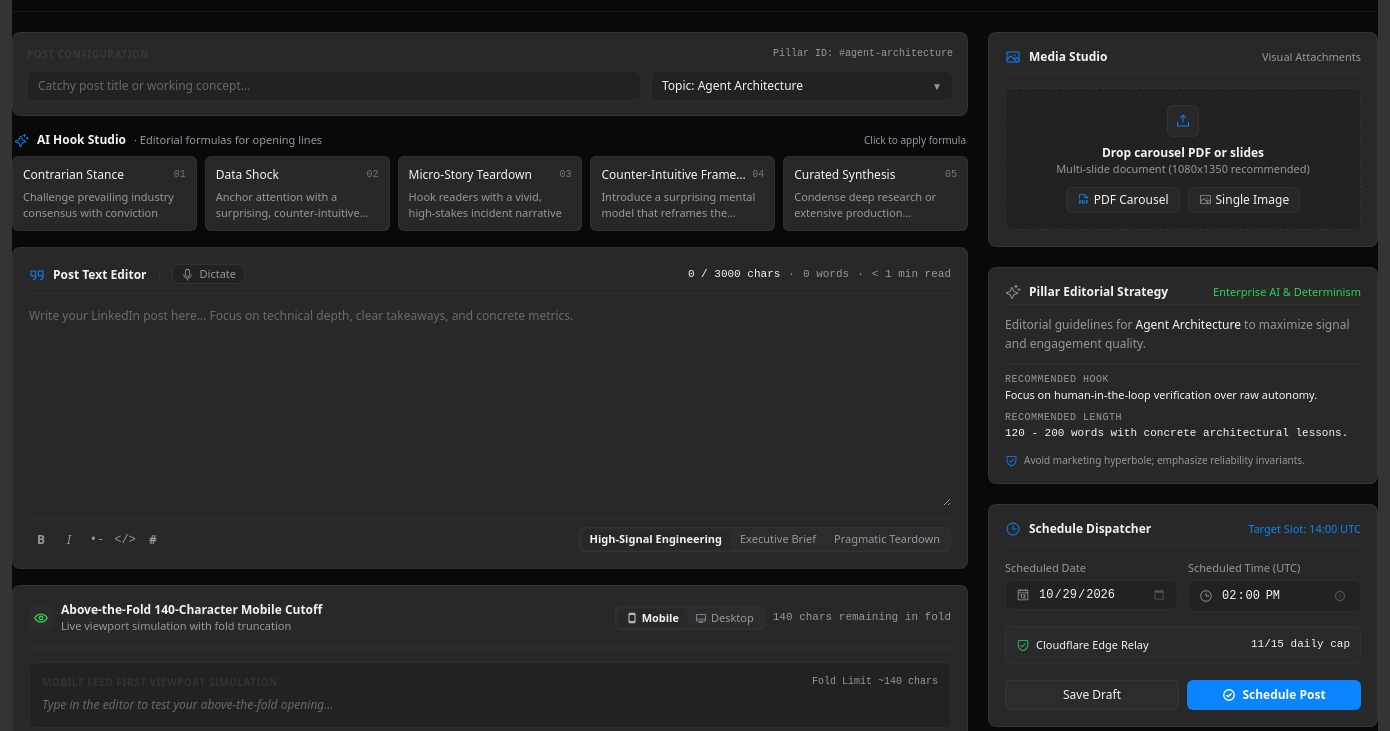
Test: ComposerView › displays above-the-fold 140-character cutoff indicator and fold status
This screenshot has width=1390, height=731.
Expected: the text with test id "fold-status-badge" reads "140 chars remaining in fold", [773, 611, 951, 623]
Replace the text in the text box with test id "post-content-editor" with "Most engineering teams are building agent workflows completely wrong: they rely on autonomous ReAct loops instead of deterministic state machines. This sentence easily crosses the 140 character mobile": [490, 406] box [29, 306, 951, 506]
(page scrolled)
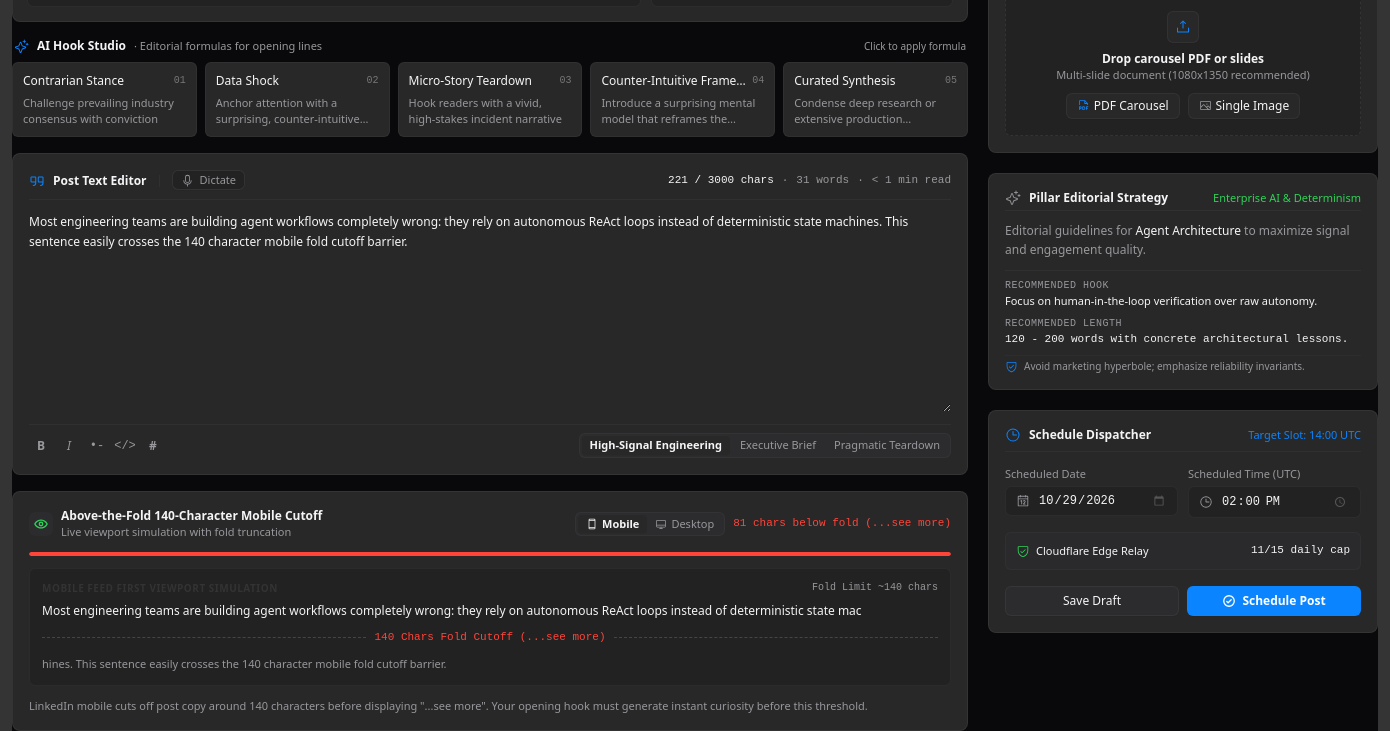
Now the text with test id "fold-status-badge" shows "below fold (...see more)", box [733, 517, 951, 529]
Now the element with test id "visual-fold-line" is shown, box [374, 631, 606, 643]
